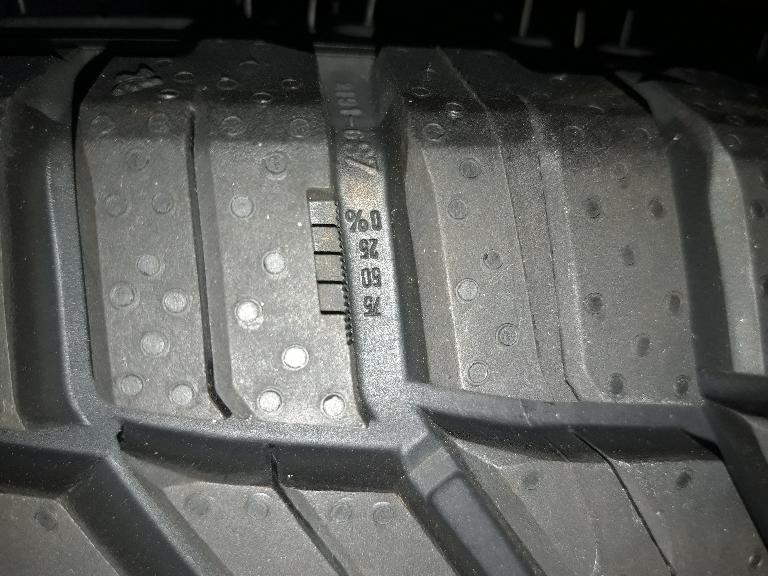temoin:100: (299, 180, 361, 353)
